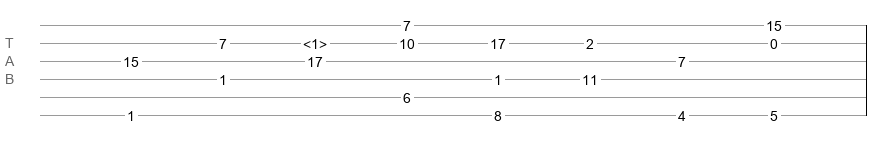0: (770, 36, 778, 46)
1: (127, 108, 135, 118), (219, 72, 227, 82), (494, 72, 502, 82)
10: (399, 36, 415, 46)
11: (582, 72, 598, 82)
15: (123, 54, 139, 64), (766, 18, 782, 28)
17: (307, 54, 323, 64), (490, 36, 506, 46)
2: (586, 36, 594, 46)
4: (678, 108, 686, 118)
5: (770, 108, 778, 118)
6: (403, 90, 411, 100)
7: (219, 36, 227, 46), (403, 18, 411, 28), (678, 54, 686, 64)
8: (494, 108, 502, 118)
harmonic: (303, 36, 327, 46)
